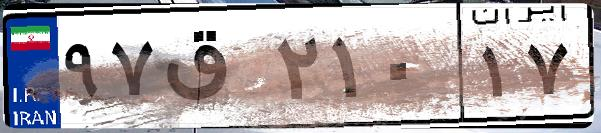0: (385, 28, 445, 110)
1: (330, 28, 385, 110), (475, 38, 525, 113)
2: (270, 28, 330, 110)
7: (525, 38, 570, 115), (110, 28, 158, 98)
9: (57, 26, 110, 100)
ق: (158, 20, 270, 120)
